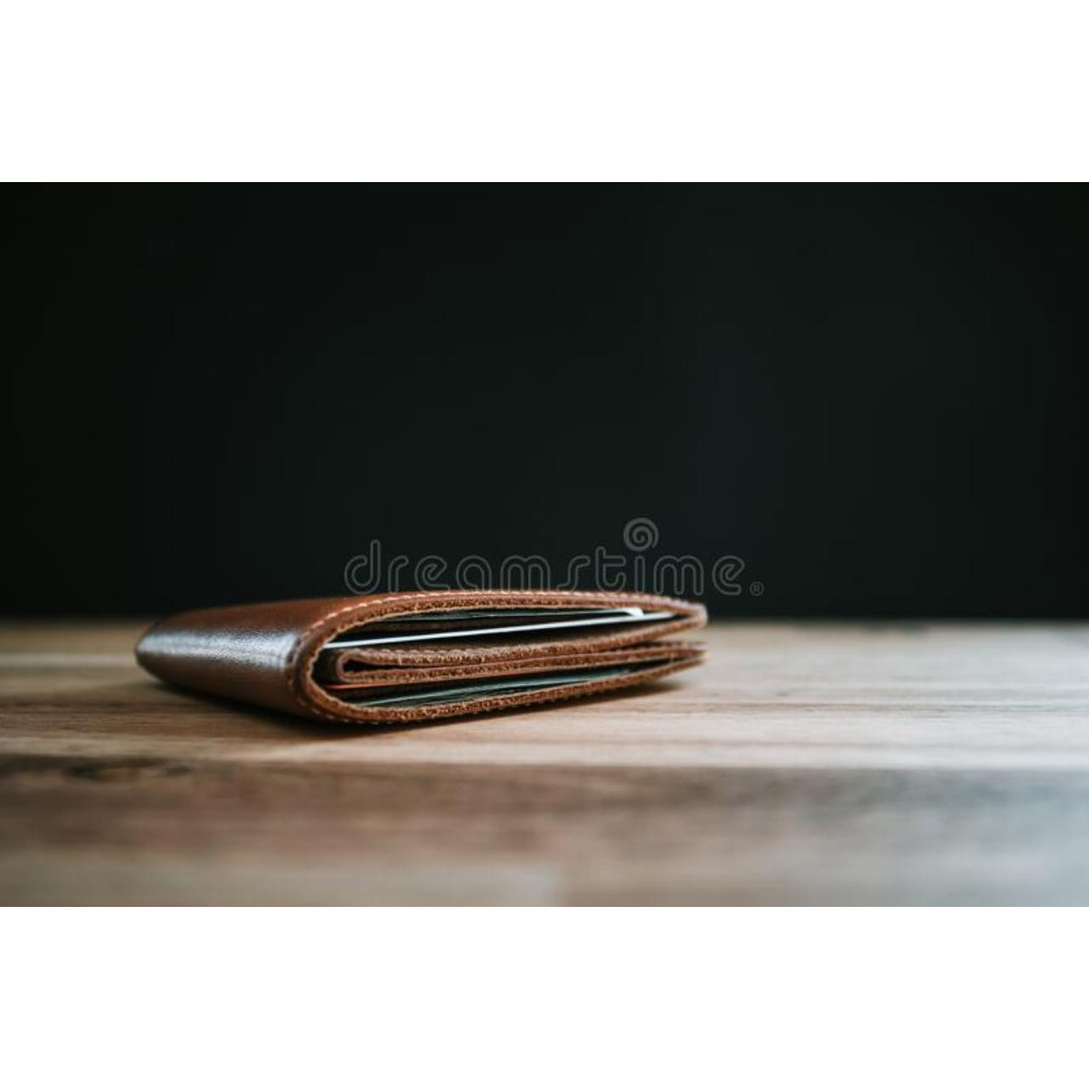wallet: (137, 552, 793, 787)
